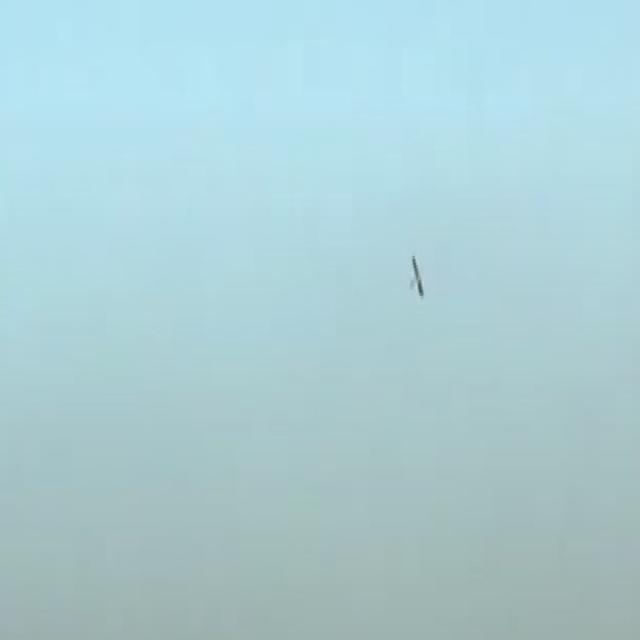iha: (408, 251, 425, 299)
